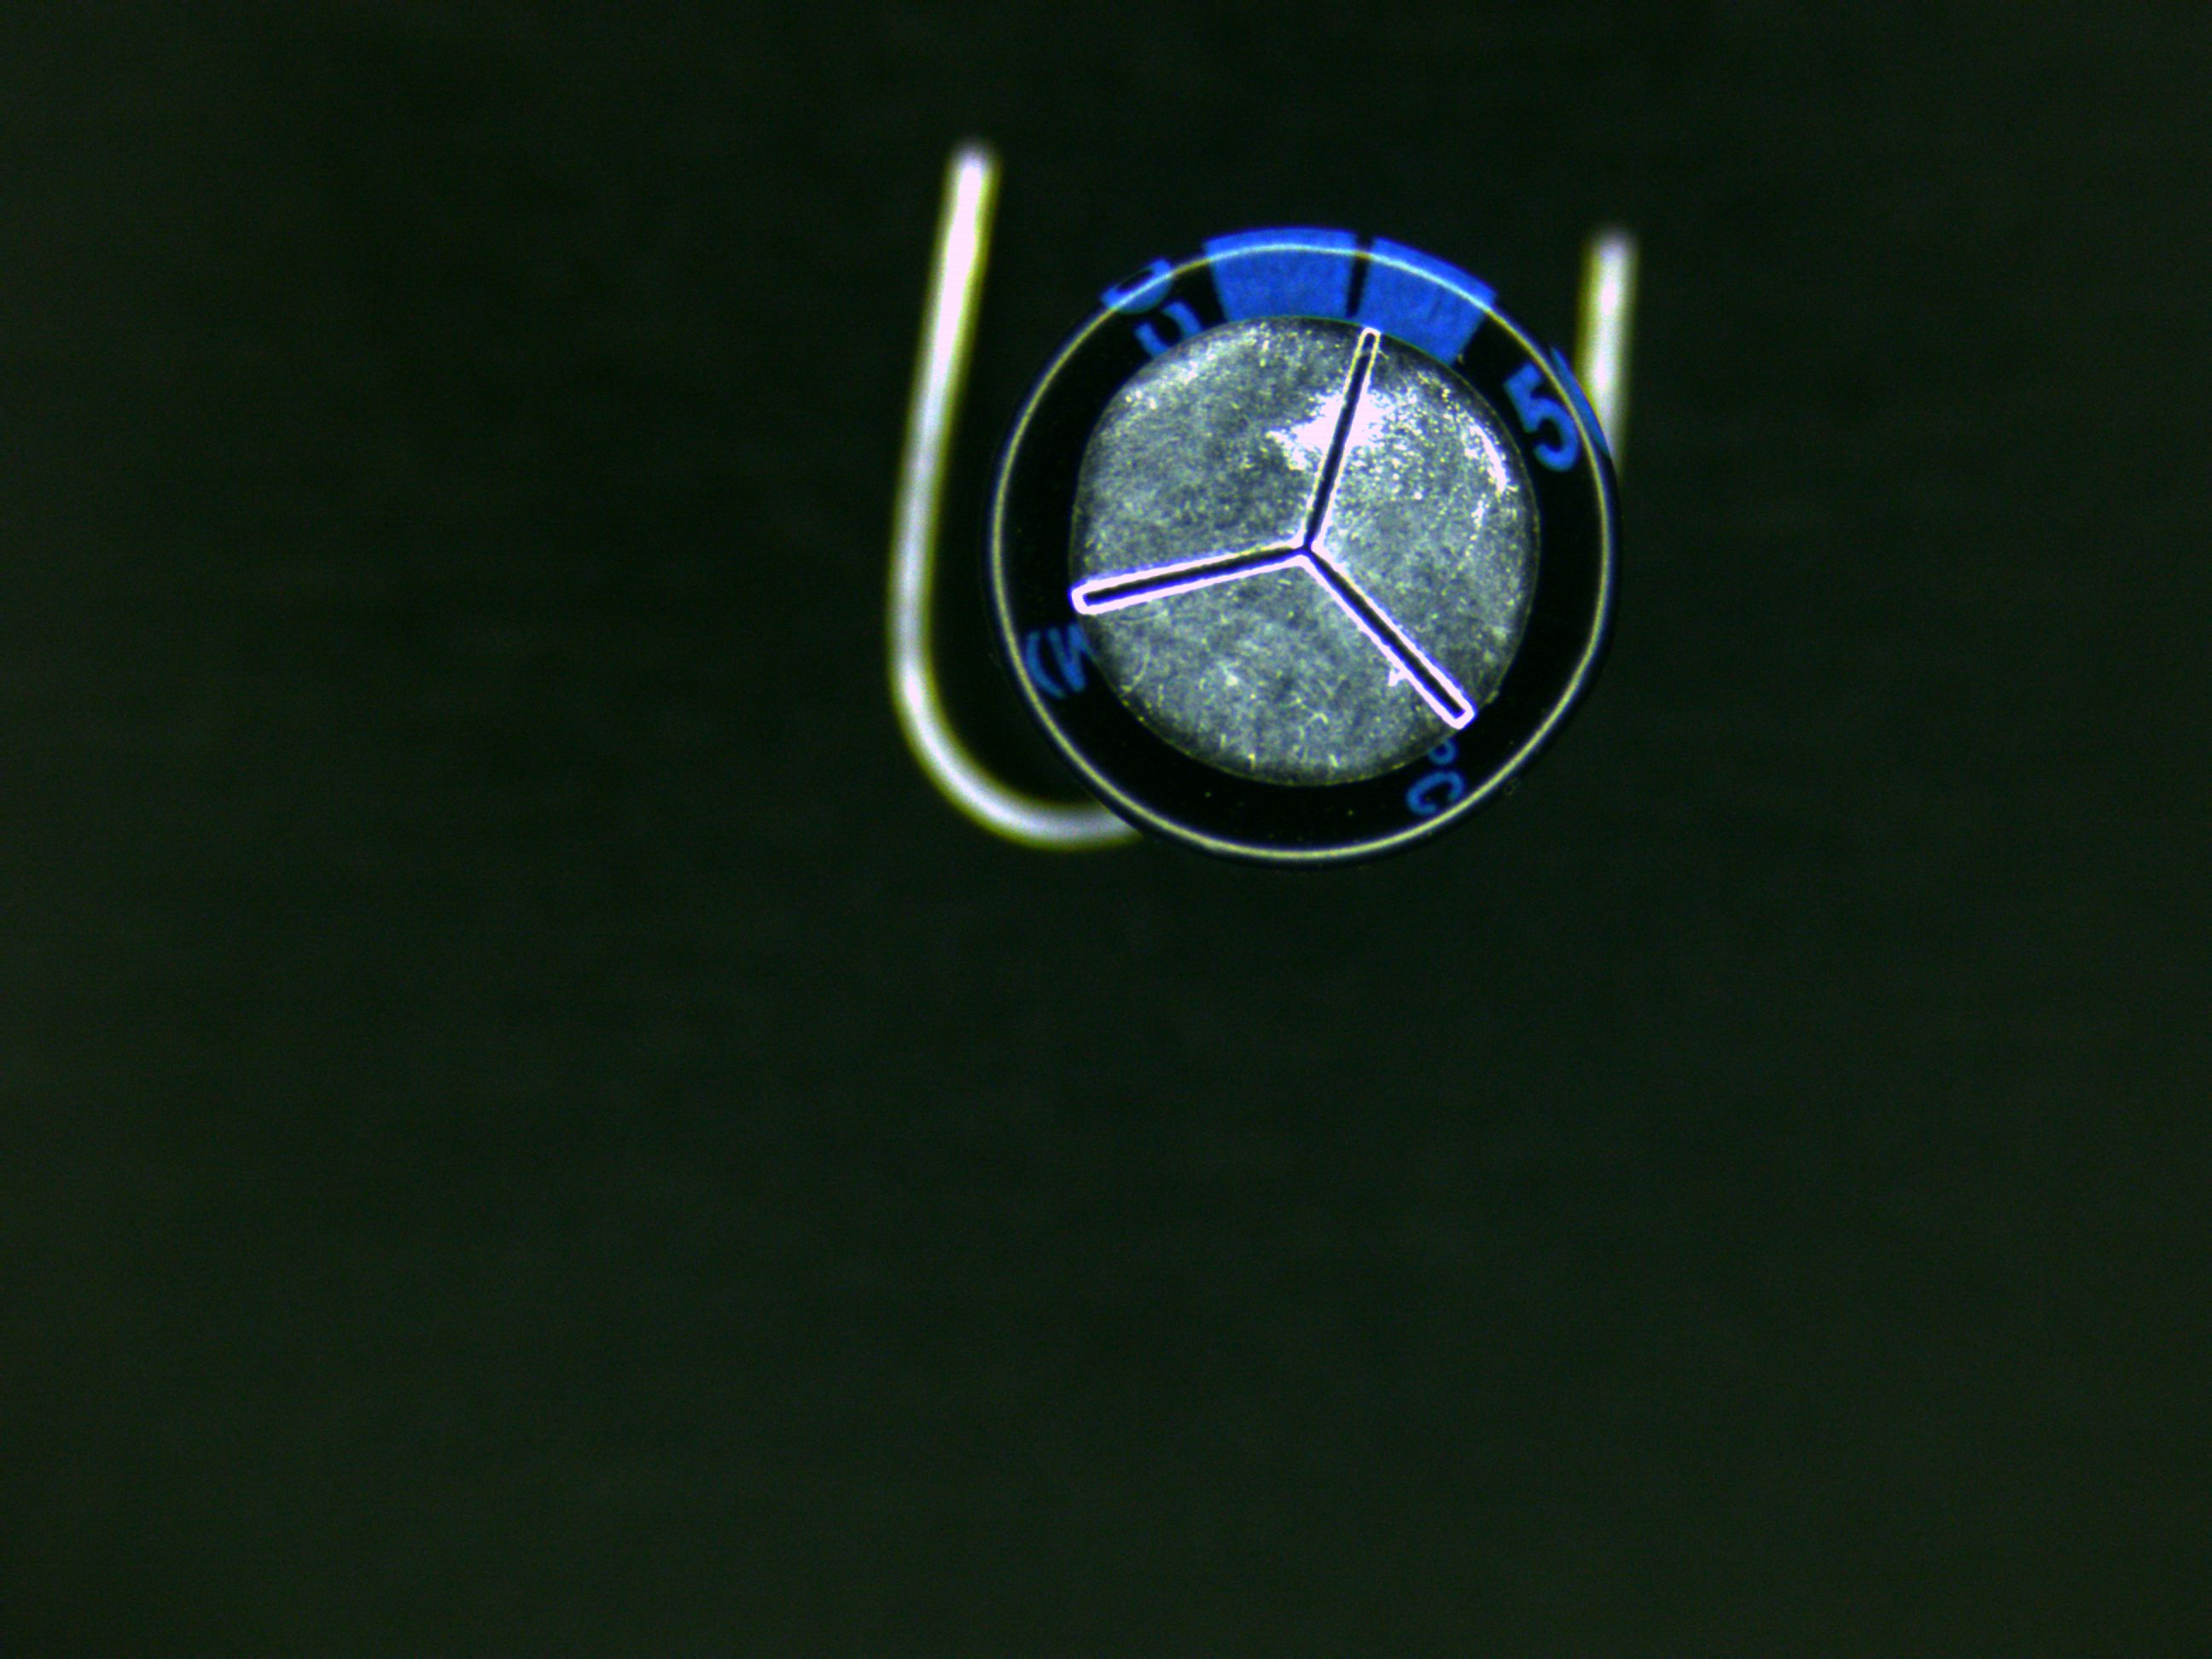c2: (1000, 221, 1620, 864)
